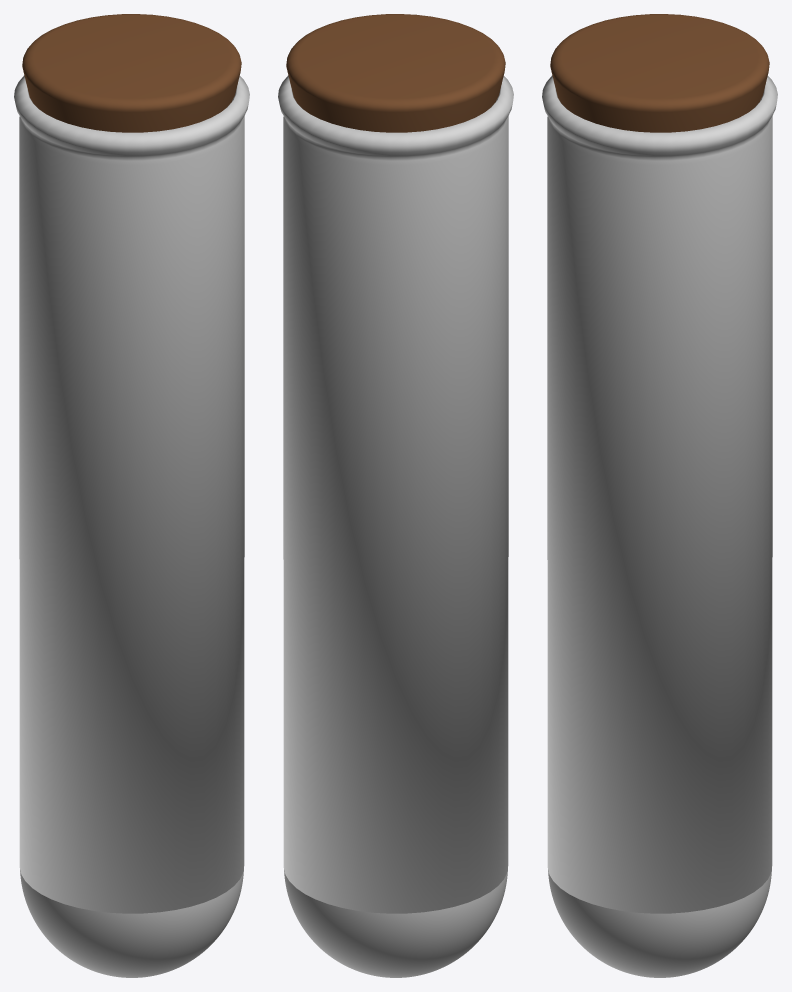
Rendered from Potion1.fbx.
3 views of the same model, side by side, from view 1: azimuth 30°, elevation 25°; view 2: azimuth 150°, elevation 25°; view 3: azimuth 270°, elevation 25° (orthographic).
Parts seen in each view (by area): view 1: posion_small, ps_cork; view 2: posion_small, ps_cork; view 3: posion_small, ps_cork.
Part boxes in pixels (x1=…): posion_small: x1=14, y1=75, x2=249, y2=977; ps_cork: x1=22, y1=14, x2=241, y2=132; posion_small: x1=278, y1=75, x2=513, y2=977; ps_cork: x1=286, y1=14, x2=505, y2=132; posion_small: x1=542, y1=75, x2=777, y2=977; ps_cork: x1=550, y1=14, x2=769, y2=132.
Bounding box in the file's own units: 14.27 × 60.86 × 14.29.
